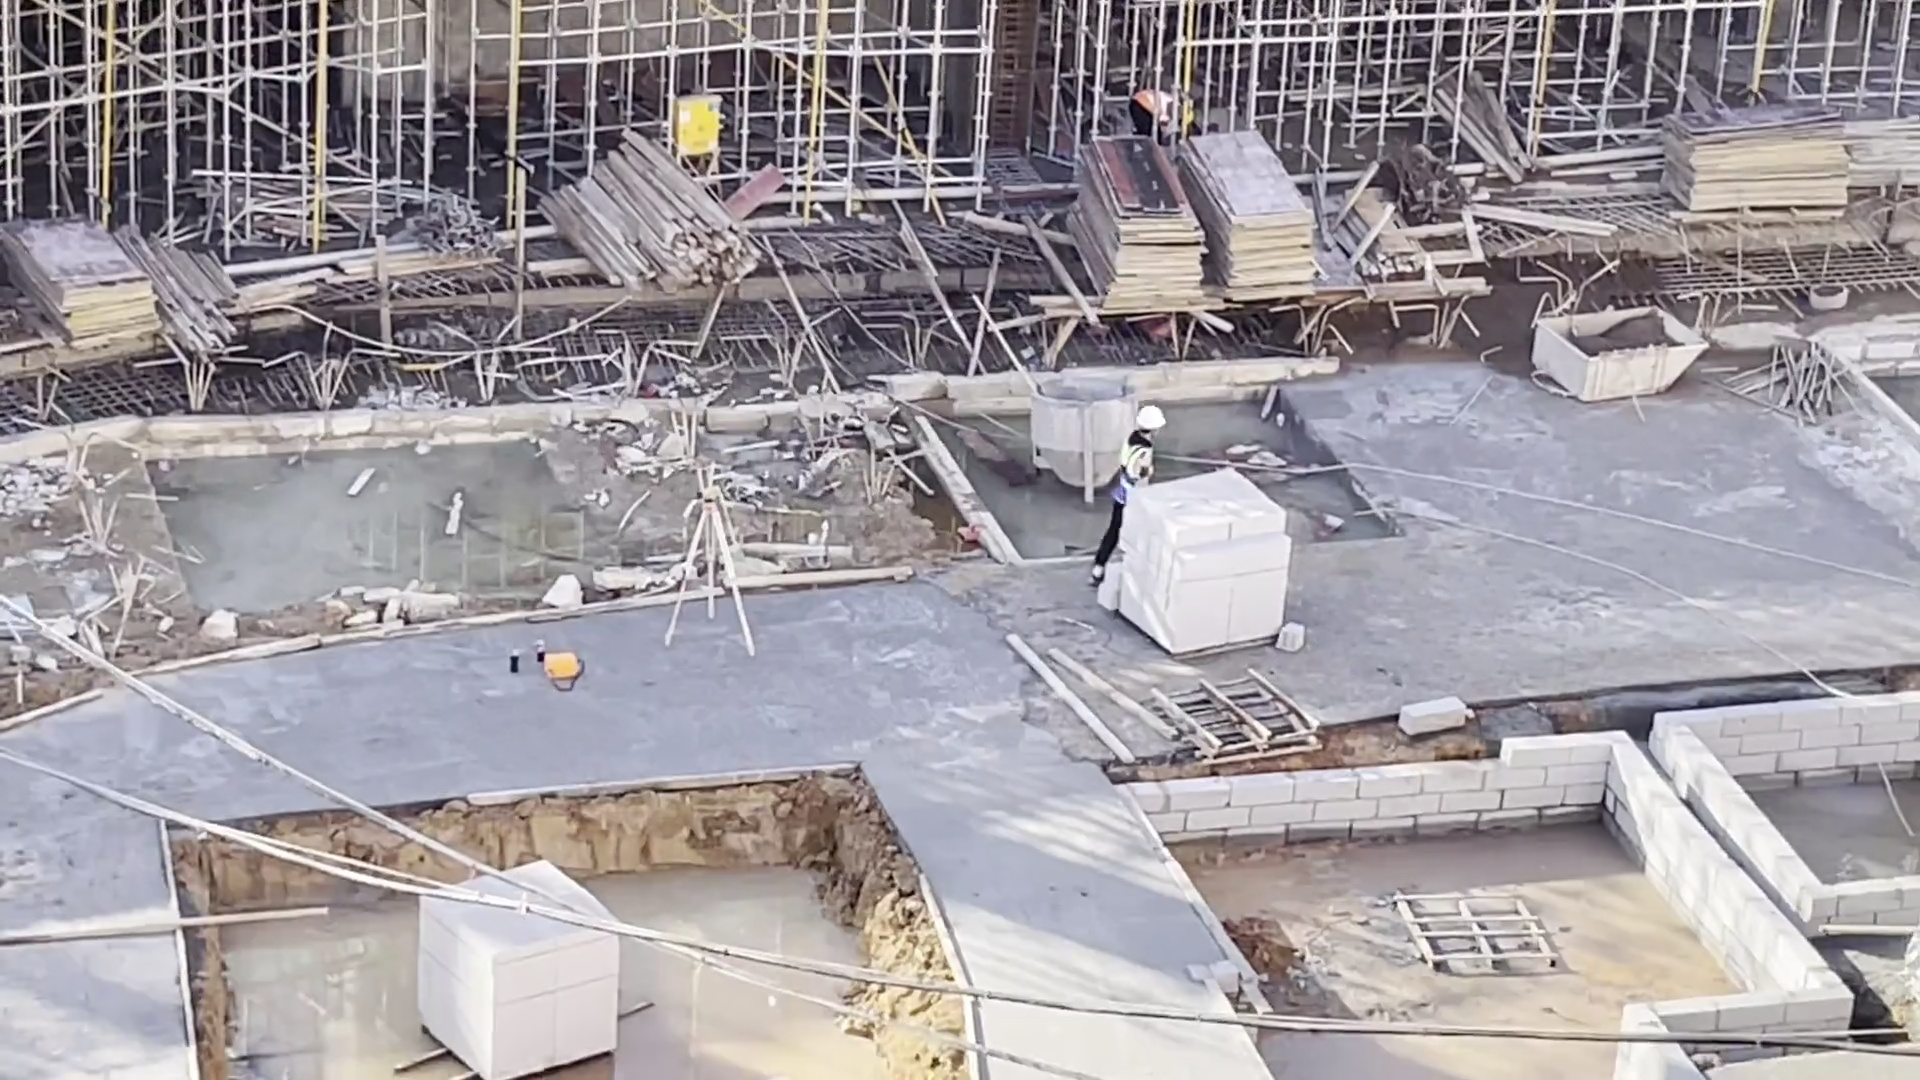board: (1058, 132, 1210, 316), (1184, 126, 1321, 309), (3, 211, 166, 360), (1660, 100, 1858, 220)
brick: (1112, 464, 1293, 660), (408, 923, 619, 1080)
ebox: (673, 80, 728, 165)
helmet: (1134, 406, 1170, 433)
hopper: (1532, 305, 1711, 408), (1021, 372, 1107, 504)
person: (1115, 402, 1171, 485)
vest: (1114, 437, 1154, 488)
wood: (529, 120, 774, 293), (166, 242, 244, 360)
